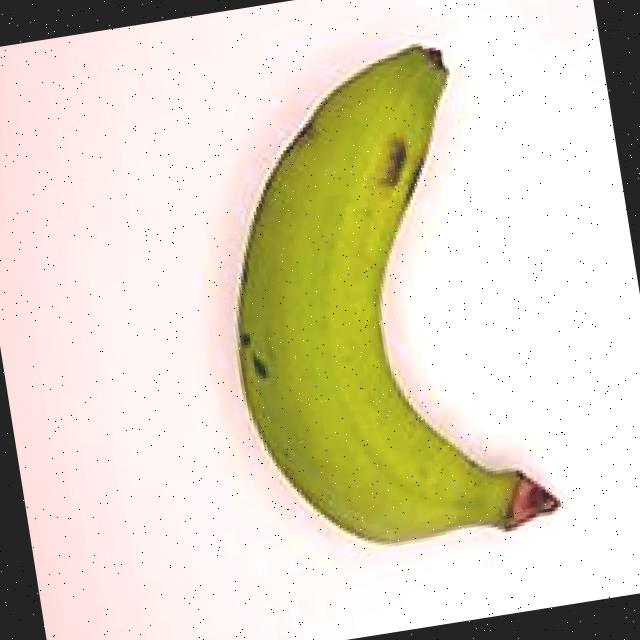Raw: (168, 0, 596, 601)
